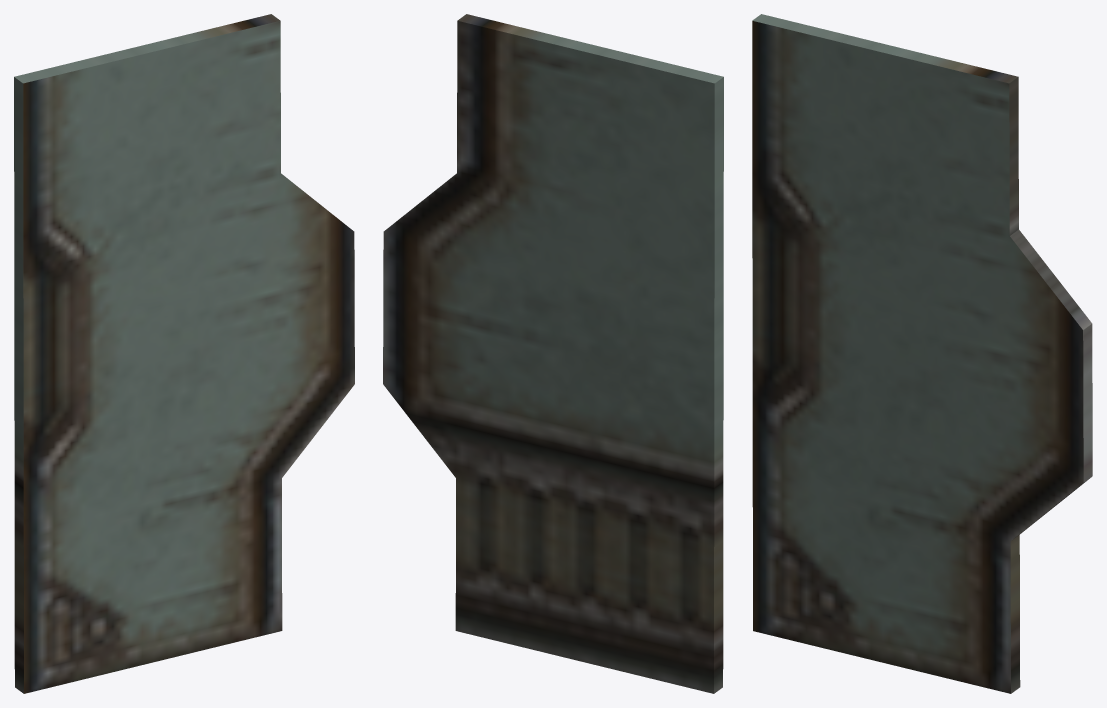
Rendered from door_bulk_left.glb.
3 views of the same model, side by side, from view 1: azimuth 30°, elevation 25°; view 2: azimuth 150°, elevation 25°; view 3: azimuth 330°, elevation 25° (orthographic).
Visible parts, largest first — view 1: BulkDoorLeft; view 2: BulkDoorLeft; view 3: BulkDoorLeft.
Part boxes in pixels (box(x1,y1,x2,y2)): BulkDoorLeft: box(14, 14, 354, 693); BulkDoorLeft: box(383, 14, 723, 693); BulkDoorLeft: box(752, 14, 1092, 693).
Bounding box in the file's own units: 2.43 × 4.28 × 0.1164.
1 material, 1 textured.
